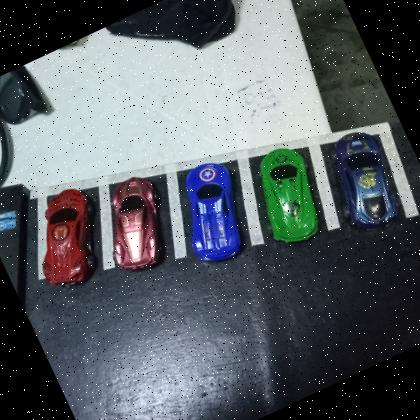Car: (312, 121, 416, 244), (14, 180, 121, 298), (162, 154, 266, 273), (84, 168, 187, 282), (236, 138, 336, 254)
